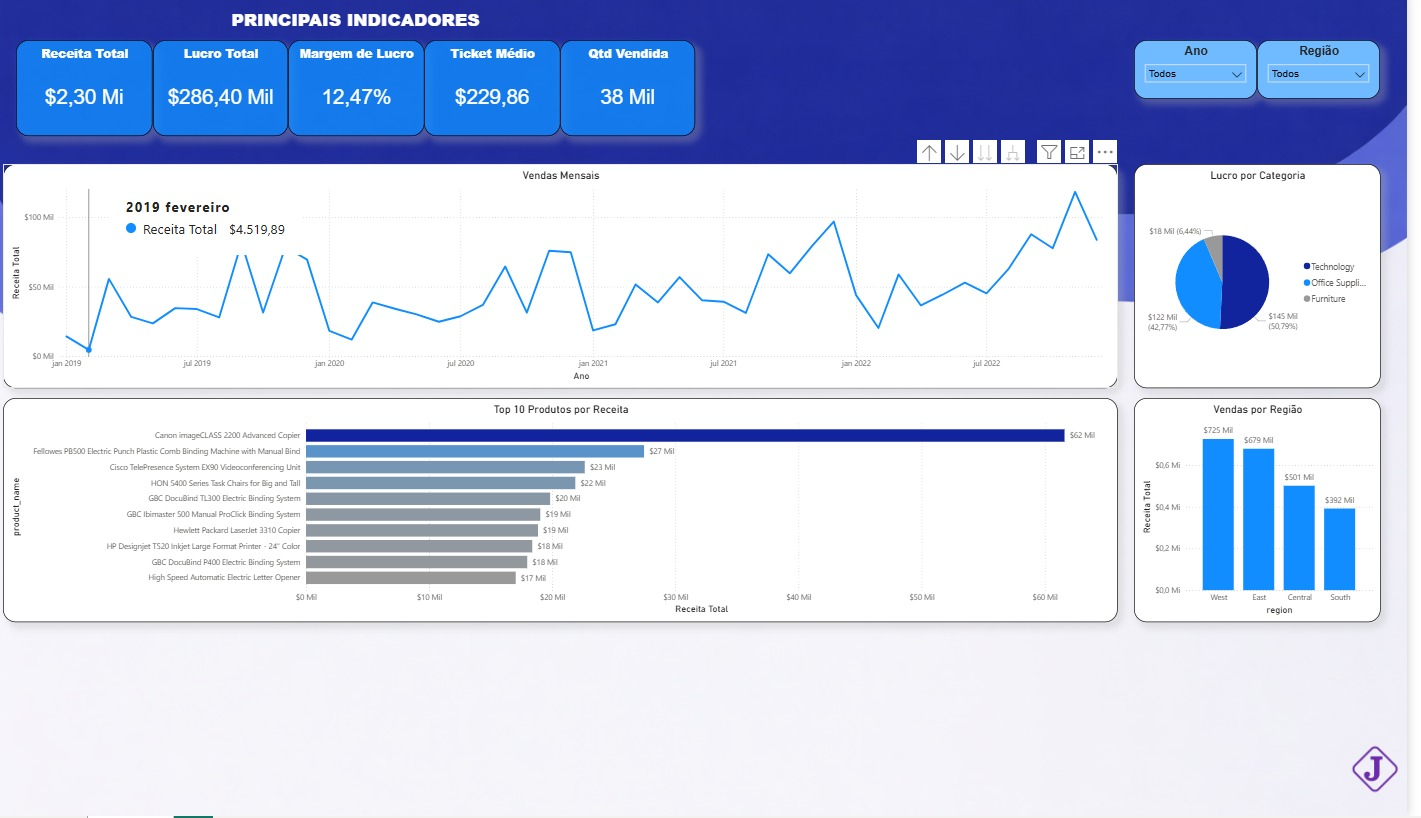

This screenshot's page, from the dashboard's own definition file:
{"tool":"powerbi","page":{"name":"Página 1","canvas":[2200,1280],"ordinal":0},"visuals":[{"type":"card","title":"Receita Total","fields":{"Values":["Superstore.Receita Total"]},"box":[30,69.4,212.8,150],"z":0},{"type":"card","title":"Lucro Total","fields":{"Values":["Superstore.Lucro Total"]},"box":[242.8,69.4,211.2,149.8],"z":1000},{"type":"card","title":"Margem de Lucro","fields":{"Values":["Superstore.Margem Lucro %"]},"box":[454,69.4,212.8,149.8],"z":2000},{"type":"card","title":"Ticket Médio","fields":{"Values":["Superstore.Ticket Médio"]},"box":[666.8,69.4,212.8,149.8],"z":3000},{"type":"card","title":"Qtd Vendida","fields":{"Values":["Superstore.Quantidade Vendida"]},"box":[879.6,69.4,211.2,149.8],"z":4000},{"type":"lineChart","title":"Vendas Mensais","fields":{"Category":["Superstore.order_date.Variation.Hierarquia de datas.Ano","Superstore.order_date.Variation.Hierarquia de datas.Mês"],"Y":["Superstore.Receita Total"]},"box":[9.5,261.7,1740.3,350],"z":5000},{"type":"pieChart","title":"Lucro por Categoria","fields":{"Category":["Superstore.category"],"Y":["Superstore.Lucro Total"]},"box":[1775,261.7,384.6,350],"z":6000},{"type":"clusteredBarChart","title":"Top 10 Produtos por Receita","fields":{"Category":["Superstore.product_name"],"Y":["Superstore.Receita Total"]},"box":[9.4,627.5,1740.5,349.7],"z":7000},{"type":"clusteredColumnChart","title":"Vendas por Região","fields":{"Category":["Superstore.region"],"Y":["Superstore.Receita Total"]},"box":[1775,627.4,384.6,350],"z":8000},{"type":"slicer","title":"Ano","fields":{"Values":["Superstore.order_date.Variation.Hierarquia de datas.Ano"]},"box":[1774.8,68.7,192,92.1],"z":9000},{"type":"slicer","title":"Região","fields":{"Values":["Superstore.region"]},"box":[1966.8,68.7,192,92.1],"z":10000},{"type":"textbox","box":[29.7,12.5,1059.9,87.4],"z":11000},{"type":"image","box":[2102.6,1158.2,96.8,96.8],"z":11001}]}

Visuals, with their boxes in screenshot pixels (x1, y1, x2, y2), scaled from the page's 2200x1280 canvas onto the 1421x818 screenshot:
"Receita Total" card: l=19, t=44, r=157, b=140
"Lucro Total" card: l=157, t=44, r=293, b=140
"Margem de Lucro" card: l=293, t=44, r=431, b=140
"Ticket Médio" card: l=431, t=44, r=568, b=140
"Qtd Vendida" card: l=568, t=44, r=705, b=140
"Vendas Mensais" lineChart: l=6, t=167, r=1130, b=391
"Lucro por Categoria" pieChart: l=1146, t=167, r=1395, b=391
"Top 10 Produtos por Receita" clusteredBarChart: l=6, t=401, r=1130, b=624
"Vendas por Região" clusteredColumnChart: l=1146, t=401, r=1395, b=625
"Ano" slicer: l=1146, t=44, r=1270, b=103
"Região" slicer: l=1270, t=44, r=1394, b=103
textbox: l=19, t=8, r=704, b=64
image: l=1358, t=740, r=1420, b=802
